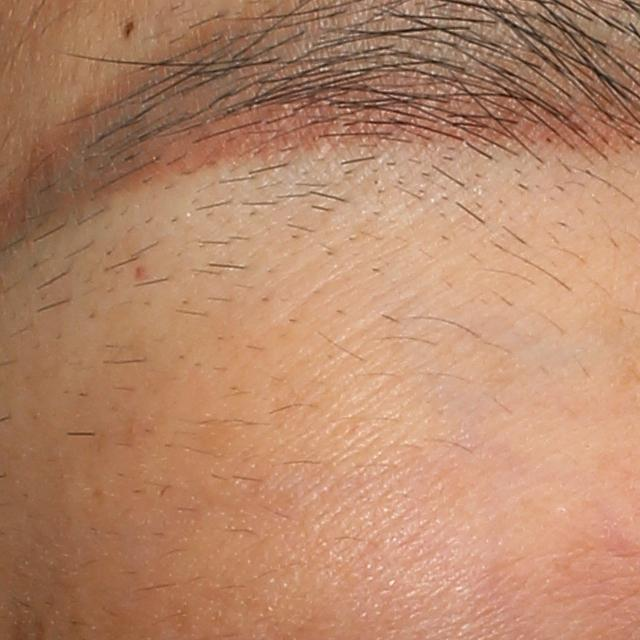nevus: (119, 17, 141, 42)
